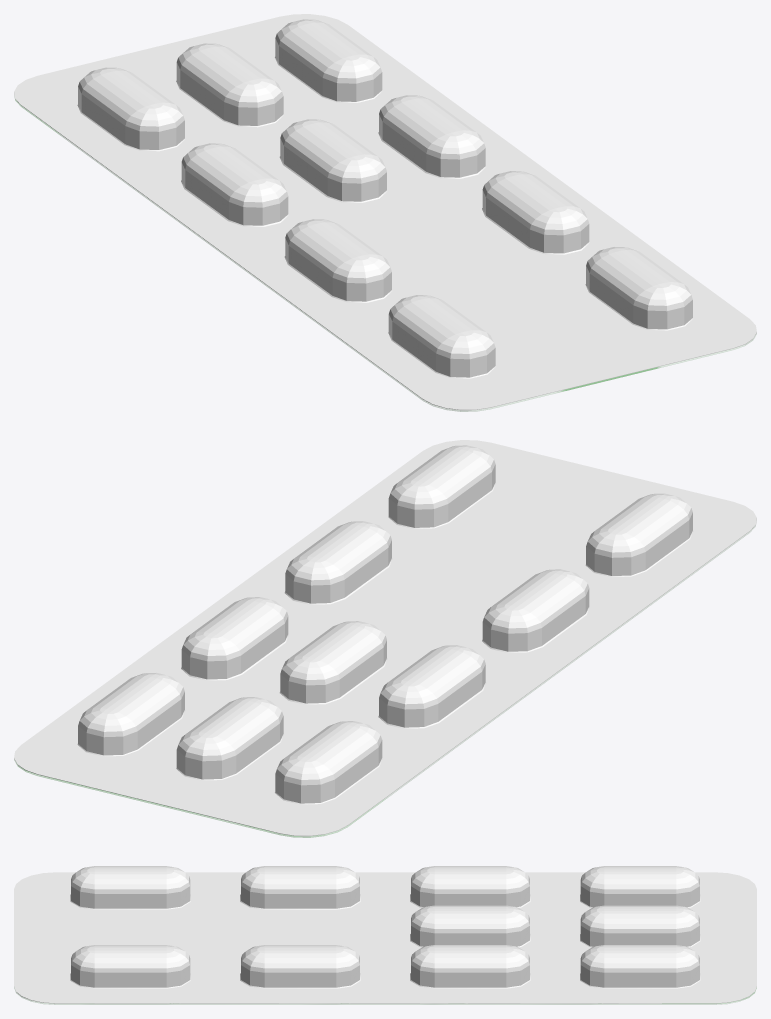
File: MedicineModel.glb
3 views of the same model, one above another, from view 1: azimuth 30°, elevation 25°; view 2: azimuth 150°, elevation 25°; view 3: azimuth 270°, elevation 25° (orthographic). The views are drawn at different scales.
Parts seen in each view (by area): view 1: rv_med_1; view 2: rv_med_1; view 3: rv_med_1.
Part boxes in pixels (box(x1,y1,x2,y2)): rv_med_1: box(14, 14, 756, 411); rv_med_1: box(14, 440, 756, 837); rv_med_1: box(14, 866, 756, 1004).
Bounding box in the file's own units: 0.1455 × 0.0154 × 0.3488.
Materials: 3 (3 with a texture image).
